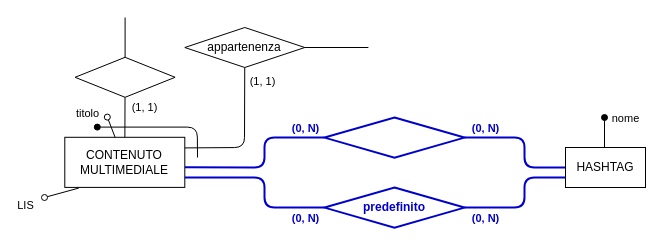
Image size: 663x246. Some labels were removed from this diagram. Each missing label, with the centre of its shape:
"contenitore" belongs at (124,76).
"nuovo" belongs at (394,137).
